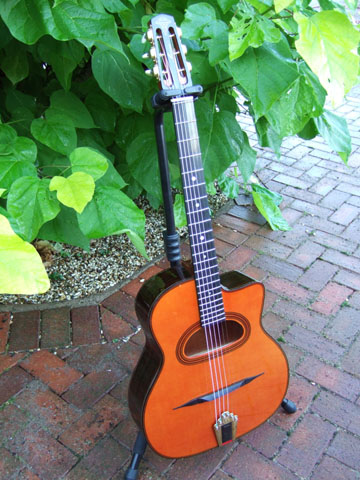guitar: (127, 13, 290, 460)
